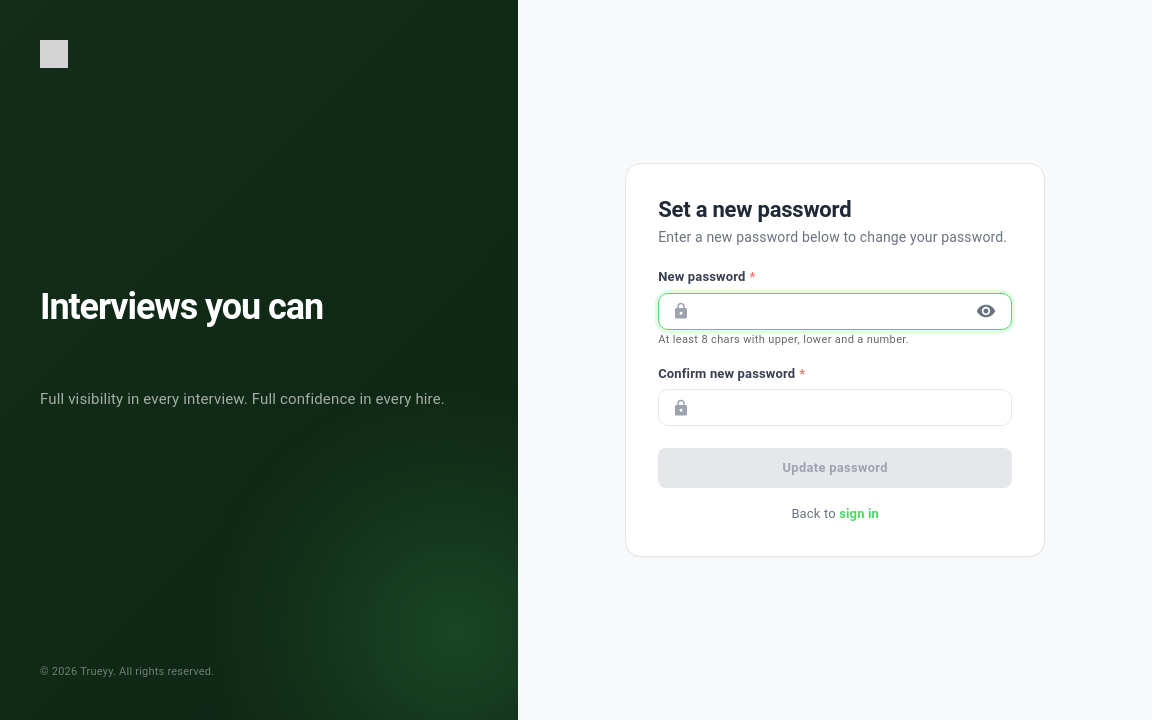
Test: ResetPassword › service failure shows the error banner
Type "Abcdef12" into the password field labelled "New password *" at (831, 311), box [698,293,963,330]
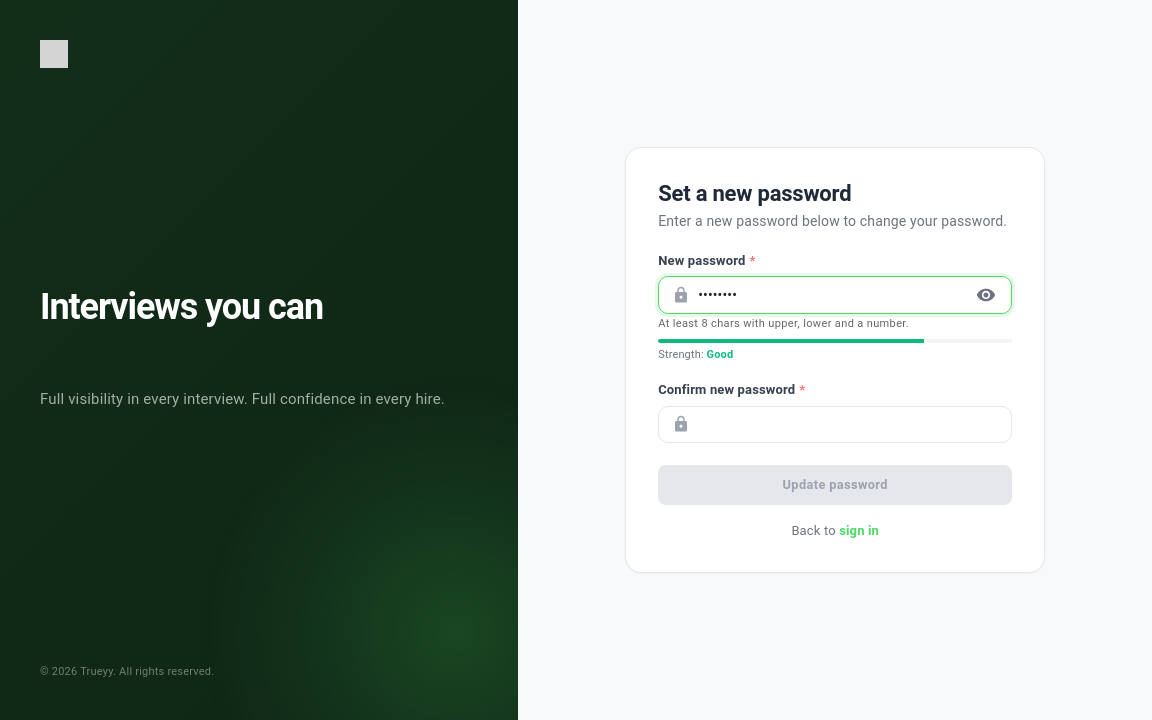
Type "Abcdef12" into the password field labelled "Confirm new password *" at (855, 424), box [698,406,1012,443]
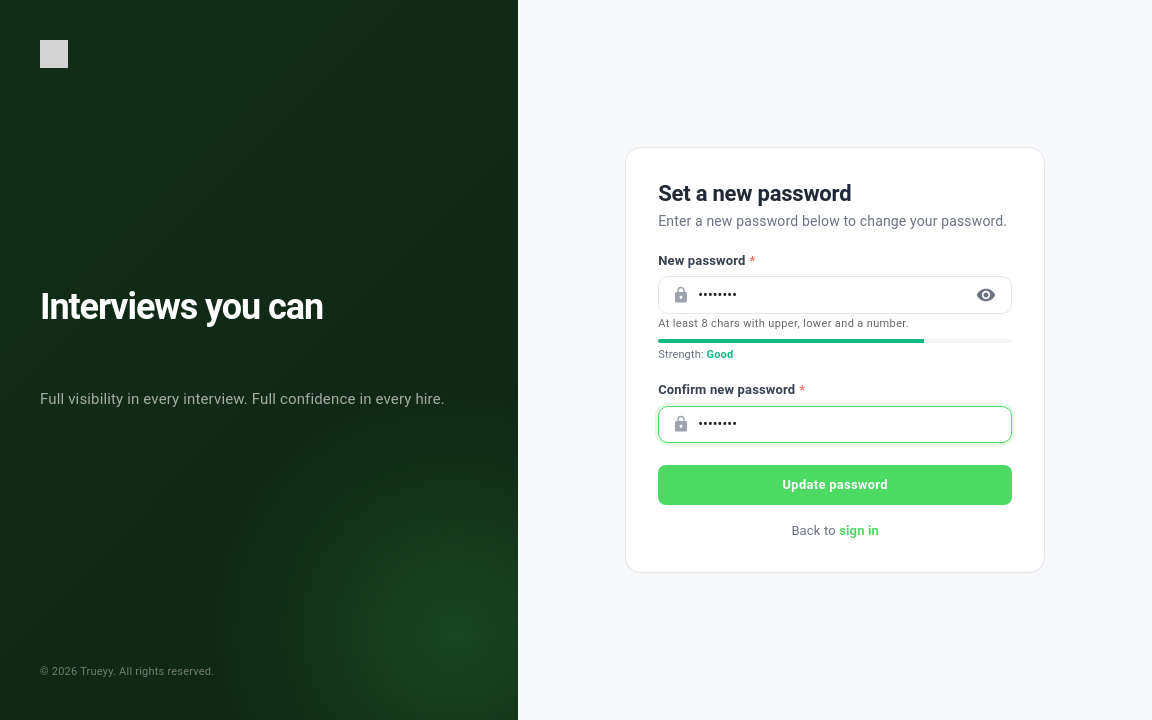
Click the button "Update password" at (835, 485), box [658,465,1012,505]
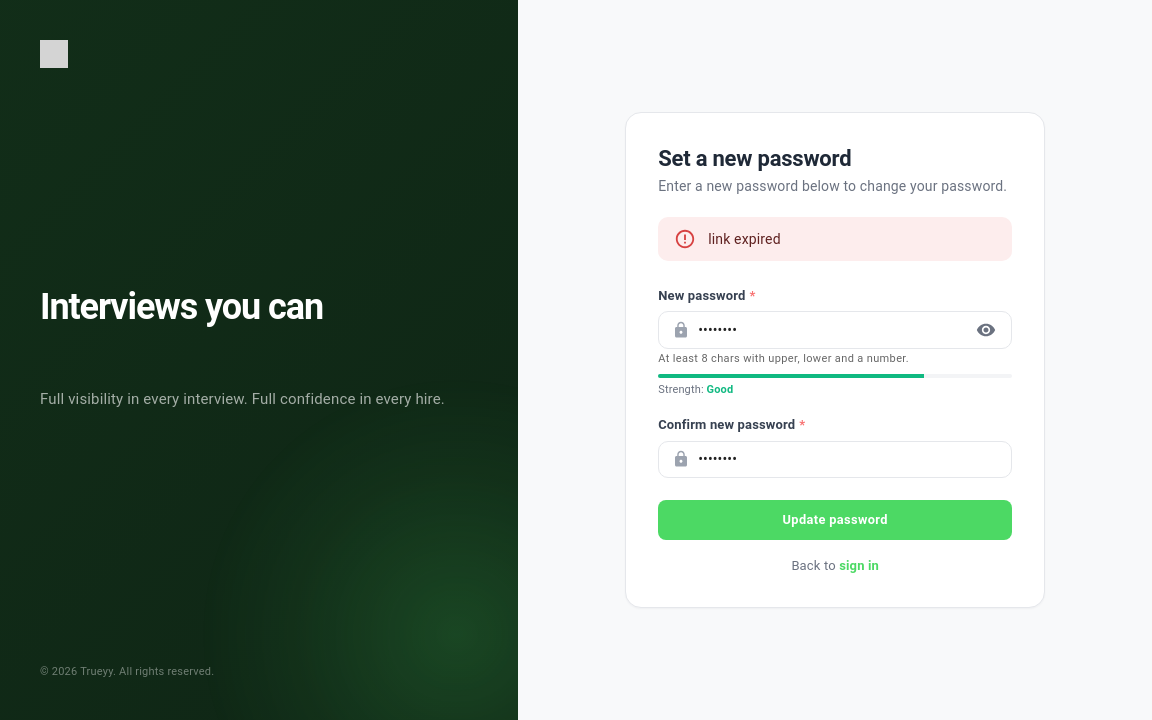
Expected: the text "link expired" is shown, [708,231,781,247]
